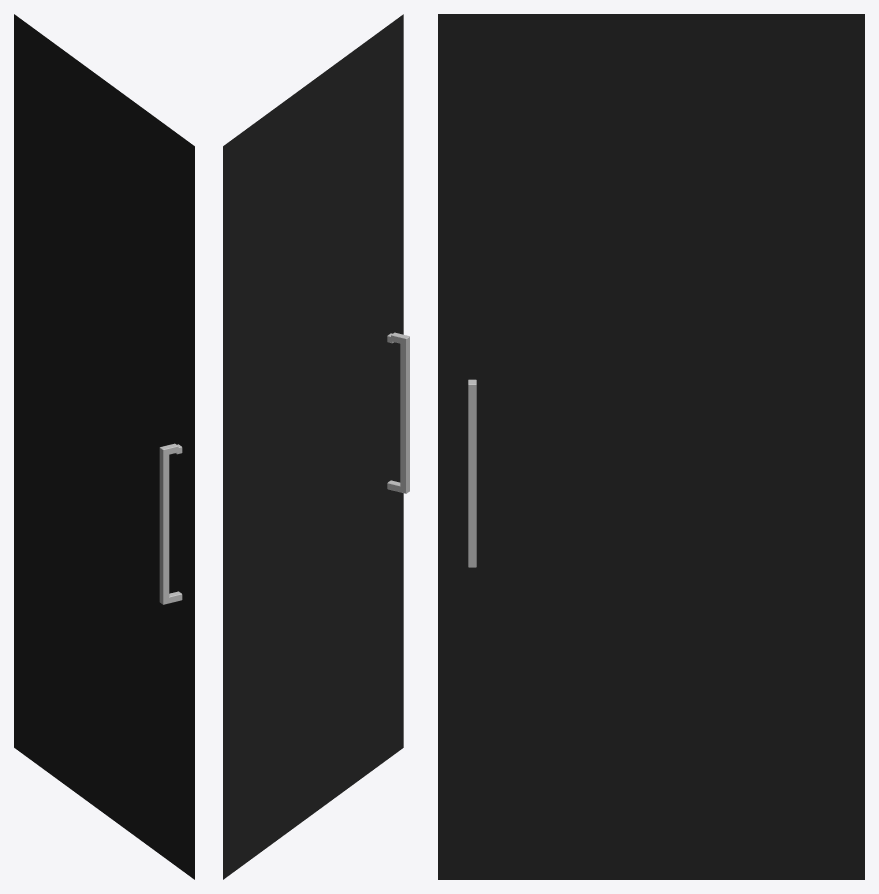
The model's file is Puertaizquierda.obj.
3 views of the same model, side by side, from view 1: azimuth 30°, elevation 25°; view 2: azimuth 150°, elevation 25°; view 3: azimuth 270°, elevation 25° (orthographic). The views are drawn at different scales.
Visible parts, largest first — view 1: Puerta_izquierda, Box16932; view 2: Puerta_izquierda, Box16932; view 3: Puerta_izquierda, Box16935.
Part boxes in pixels (left/top/right/bottom): Puerta_izquierda: left=14, top=14, right=194, bottom=879; Box16932: left=159, top=446, right=169, bottom=604; Puerta_izquierda: left=223, top=14, right=403, bottom=879; Box16932: left=400, top=335, right=409, bottom=493; Puerta_izquierda: left=438, top=14, right=864, bottom=879; Box16935: left=468, top=381, right=476, bottom=567.
Bounding box in the file's own units: 0.9191 × 21.02 × 9.38.
